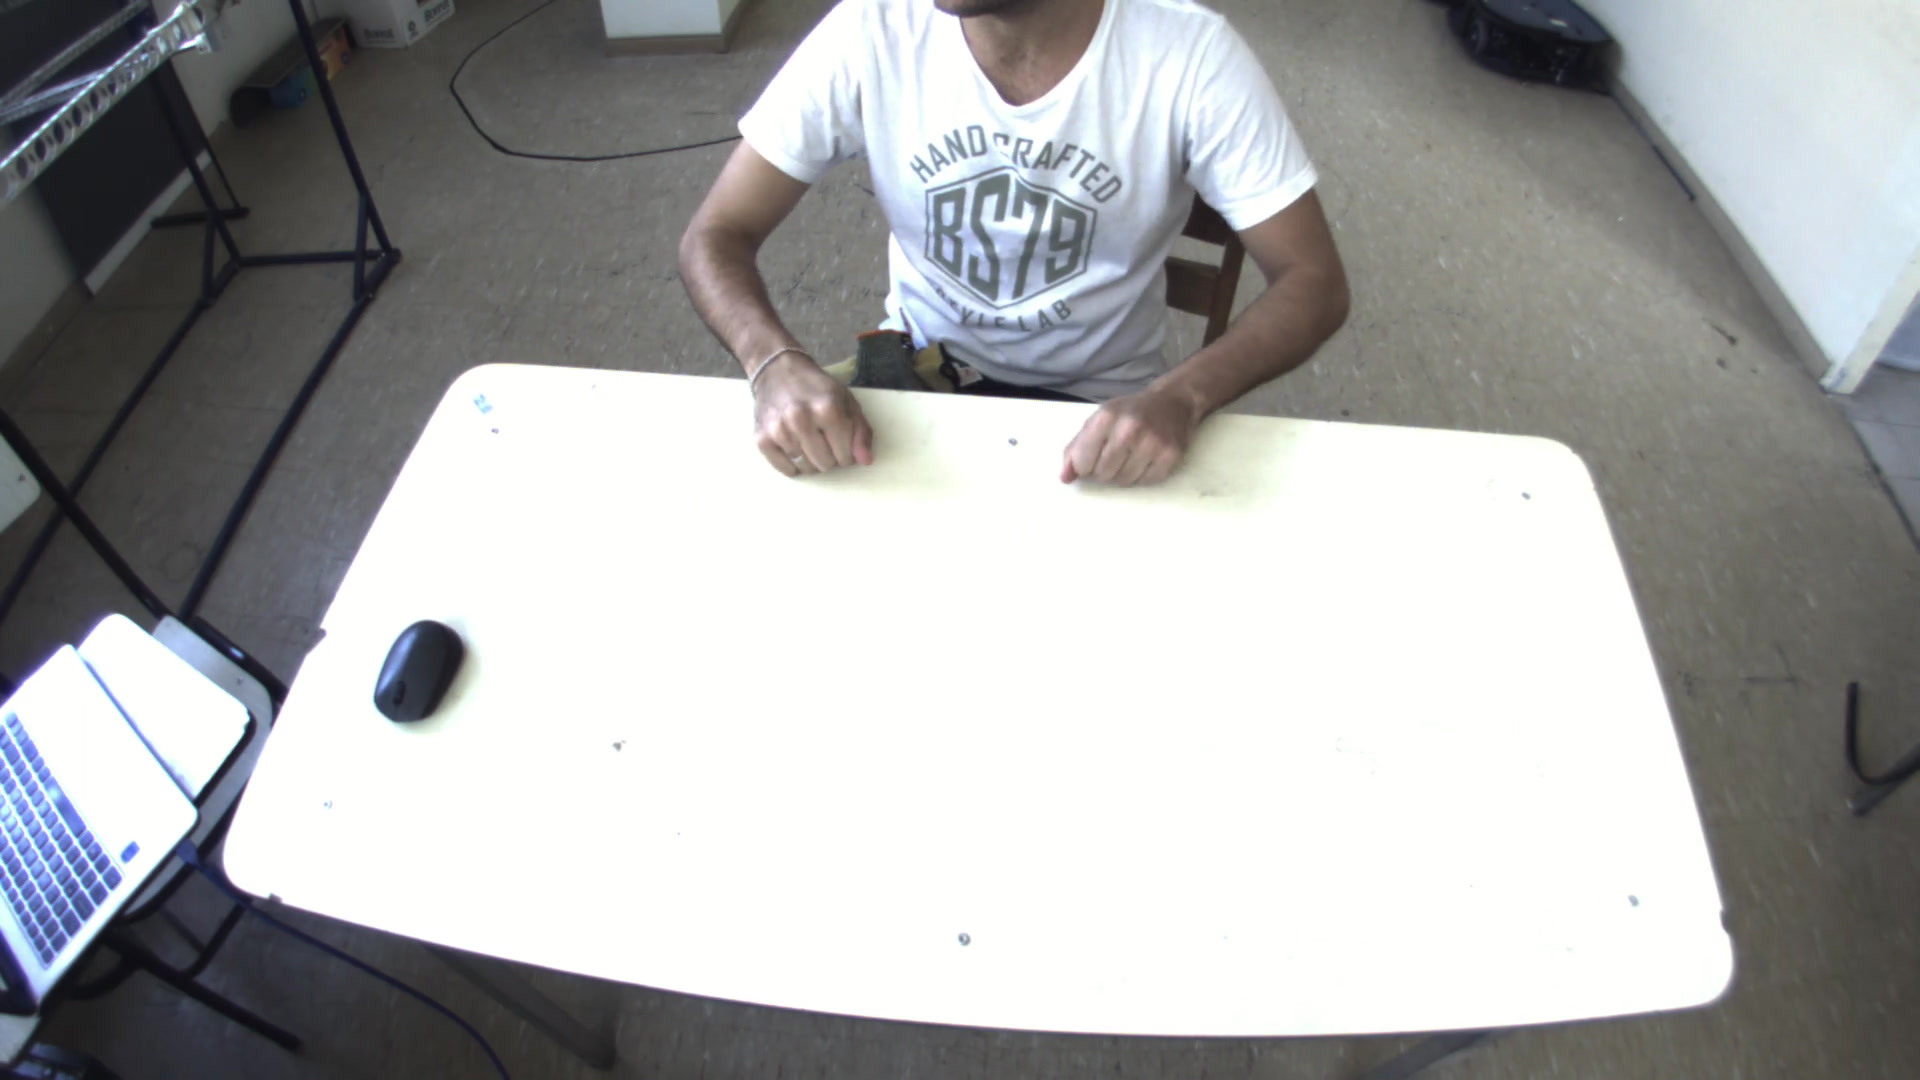hand: (735, 332, 885, 479), (1055, 369, 1205, 487)
